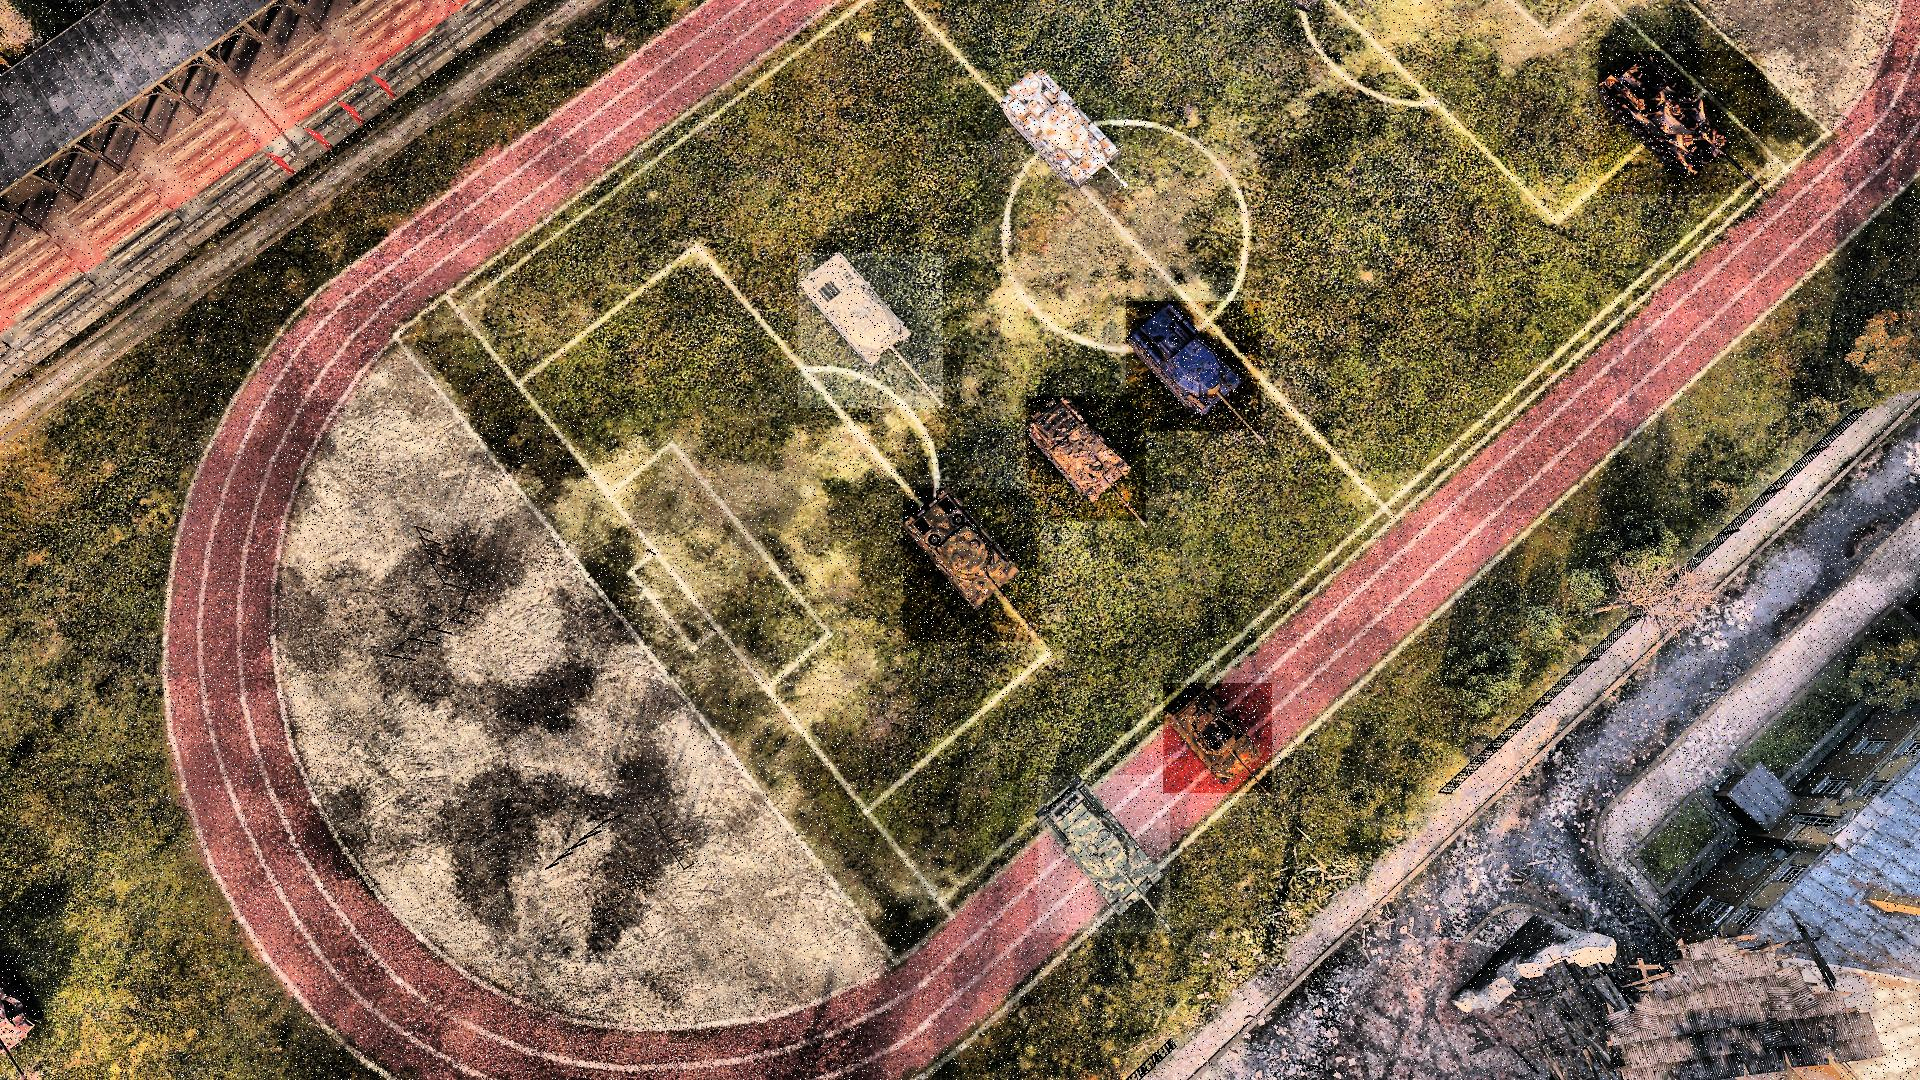military-vehicle: (1598, 51, 1767, 195), (798, 253, 943, 409), (903, 488, 1040, 642), (1038, 775, 1170, 934), (1126, 302, 1262, 431), (1000, 70, 1131, 189), (1027, 397, 1147, 522), (1163, 683, 1271, 794)
